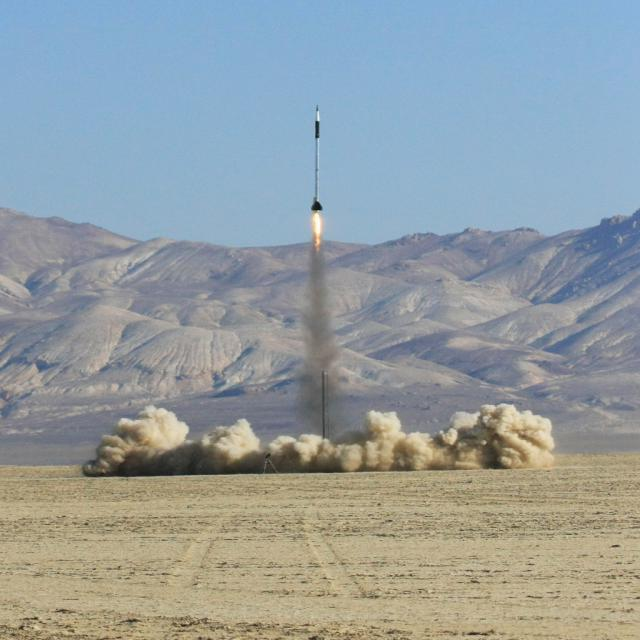missile: (310, 102, 326, 213)
